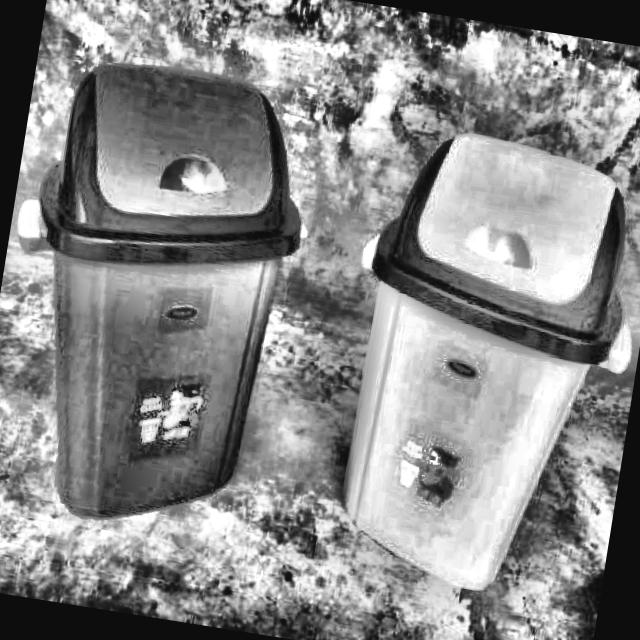Dustbin: (0, 39, 347, 557), (303, 109, 640, 638)
